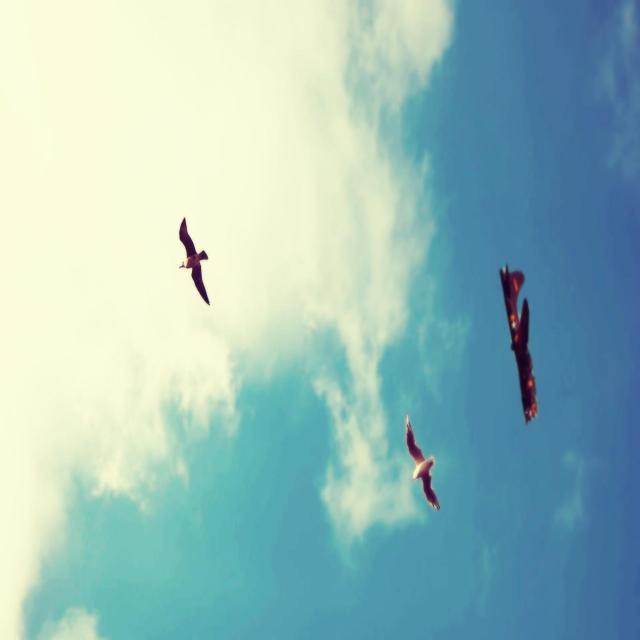airplane: (499, 262, 538, 423)
